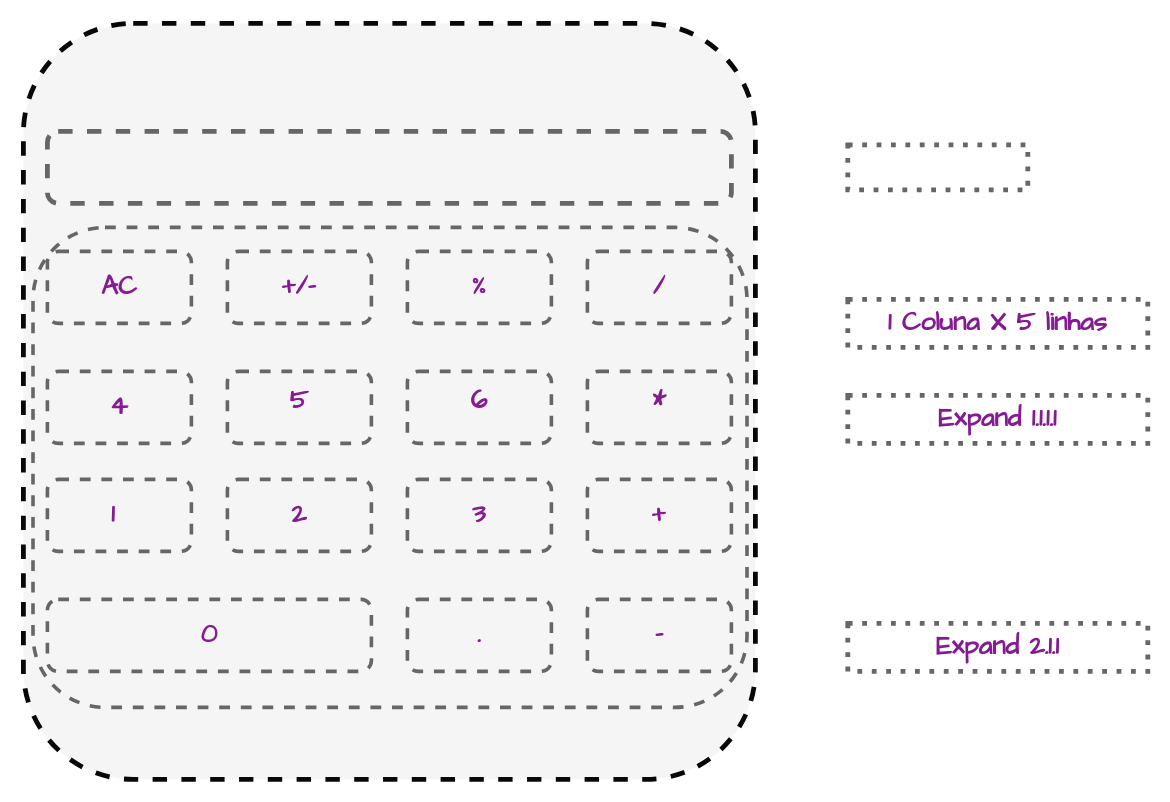
Image size: 1170x802. Some labels were removed from this diagram. Each missing label, with the centre of its shape:
"Linhas" belongs at point 937,167.
"TEXTO" belongs at point 388,166.
